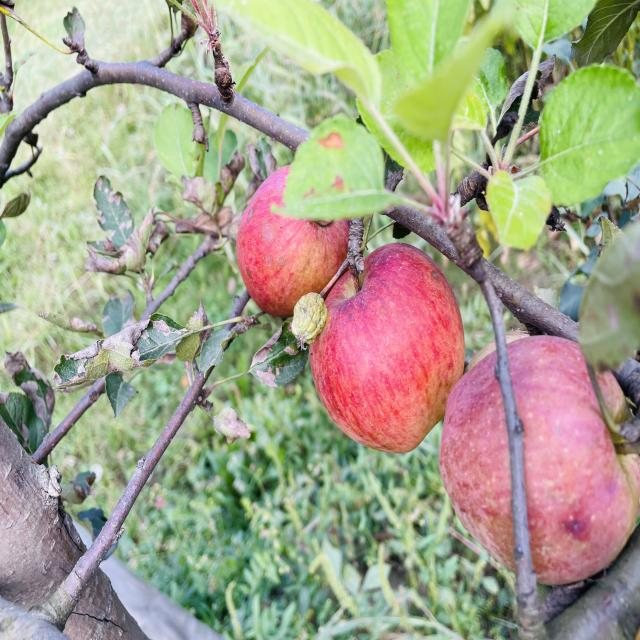Apple: (508, 337, 640, 585), (310, 243, 465, 453), (236, 165, 349, 317), (439, 352, 514, 570)
